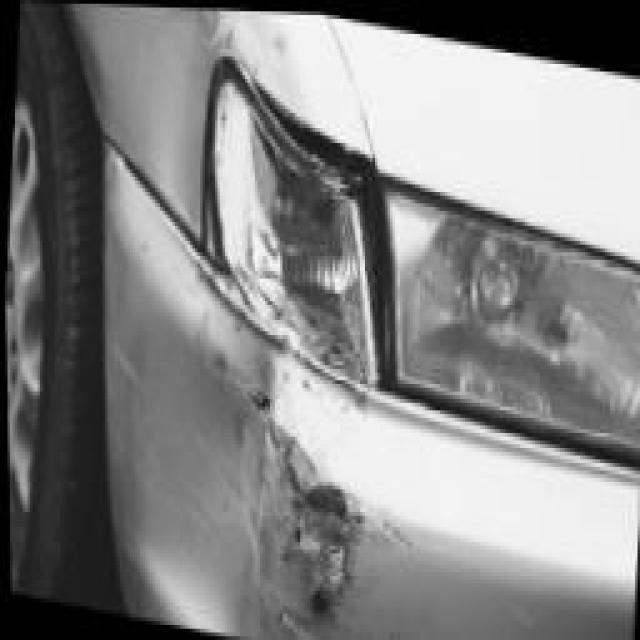Bumper: (60, 222, 428, 640)
Fender: (88, 4, 330, 189)
Light: (212, 117, 434, 388)
